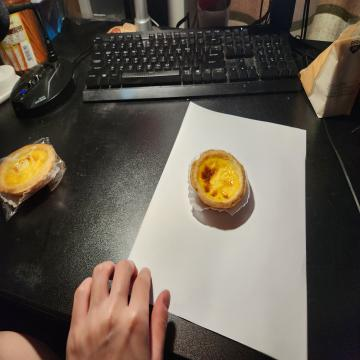EggTart: (190, 149, 247, 209)
